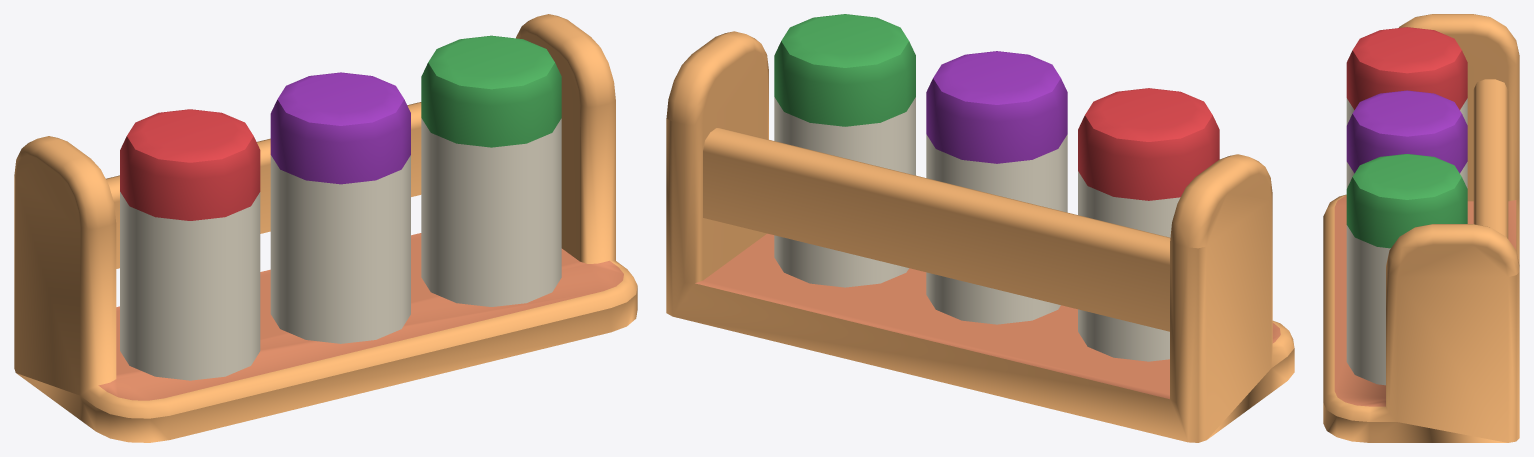
Rendered from porta_temperos_natal_pacote.glb.
The picture shows the model from 3 angles, left to right: view 1: azimuth 30°, elevation 25°; view 2: azimuth 150°, elevation 25°; view 3: azimuth 270°, elevation 25°; orthographic projection. The views are drawn at different scales.
Visible parts, largest first — view 1: porta_temperos_natal_pacote; view 2: porta_temperos_natal_pacote; view 3: porta_temperos_natal_pacote.
Part boxes in pixels (x1,y1,x2,y2): porta_temperos_natal_pacote: (14, 14, 637, 442); porta_temperos_natal_pacote: (666, 14, 1294, 442); porta_temperos_natal_pacote: (1323, 14, 1519, 442).
Size of the model in its own units: 0.256 by 0.1178 by 0.0946.
1 material, 1 textured.
